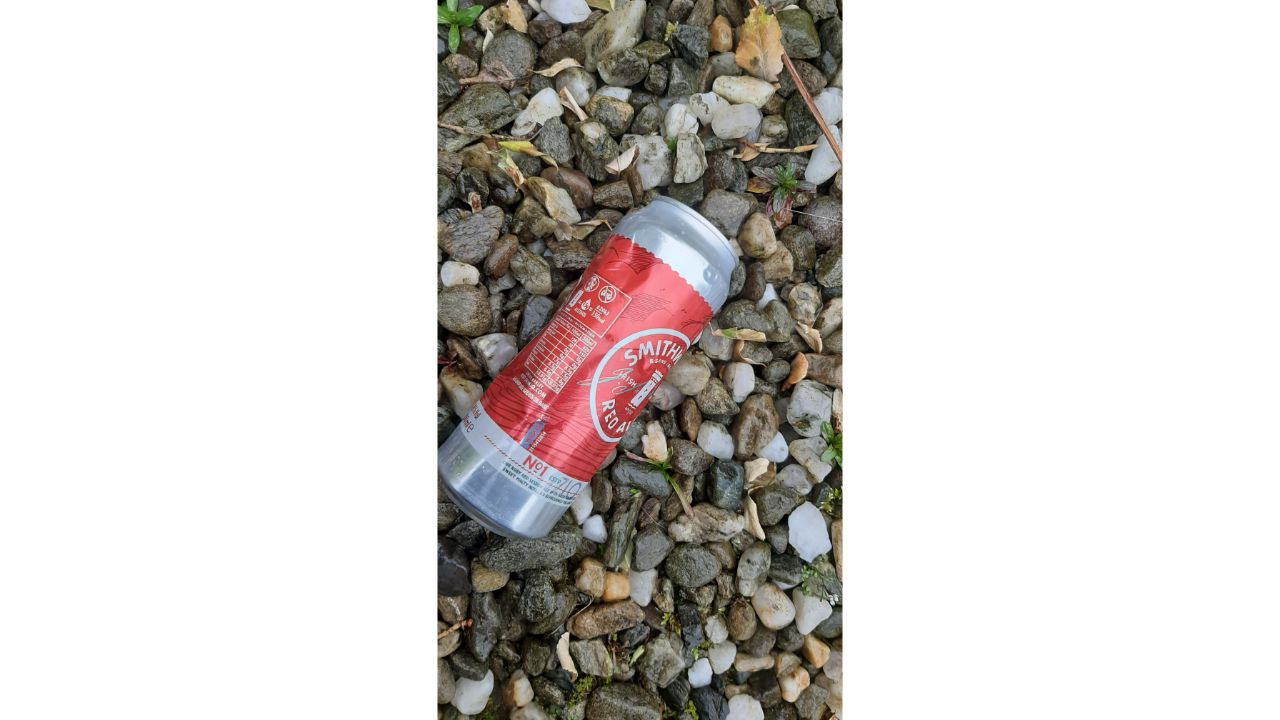Can: (440, 195, 735, 544)
